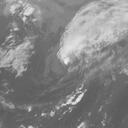cyclone: (58, 31, 107, 70)
